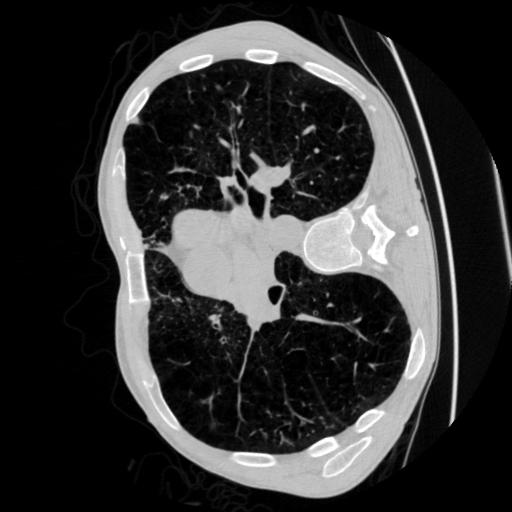nodule: (130, 116, 143, 129)
